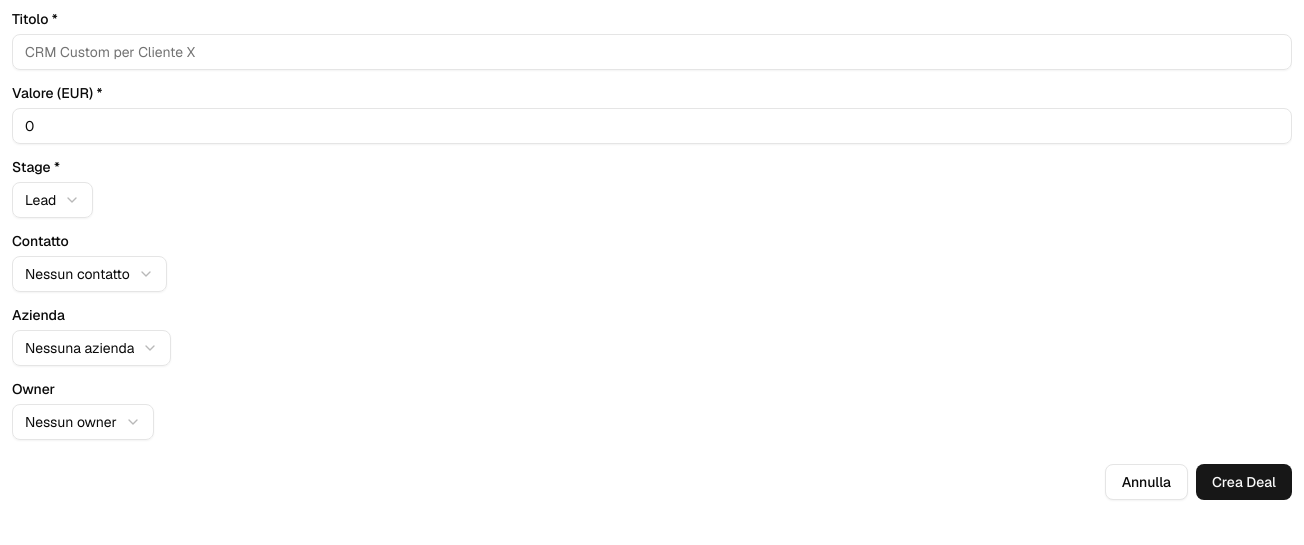
Test: DealForm › shows validation error when title is empty
Click the button "Crea Deal" at (1244, 482), box [1196,464,1292,500]
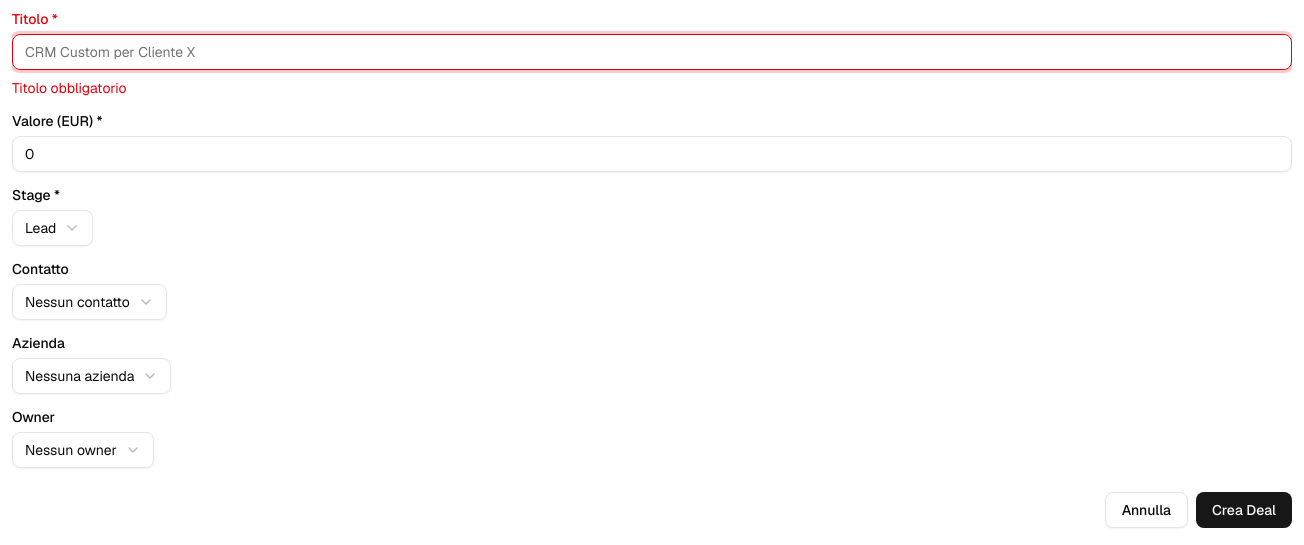
Check: the text "Titolo obbligatorio" is shown, box [12,79,126,97]
